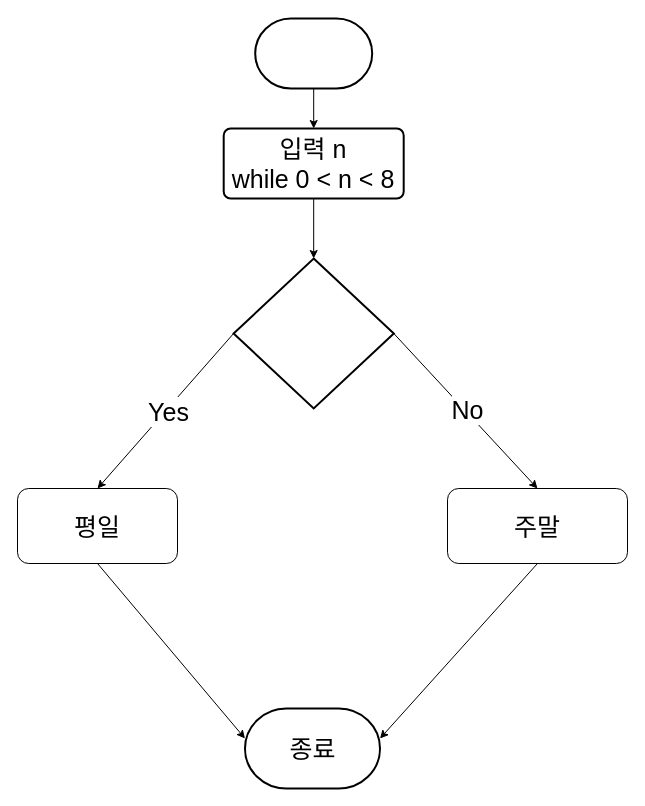
Image size: 645x806. Some labels were removed from this diagram. Here are the shapes that lost their labels. From the top down, the centre of each, then its label:
At [313,53]: "시작".
At [313,333]: "if num < 6".
